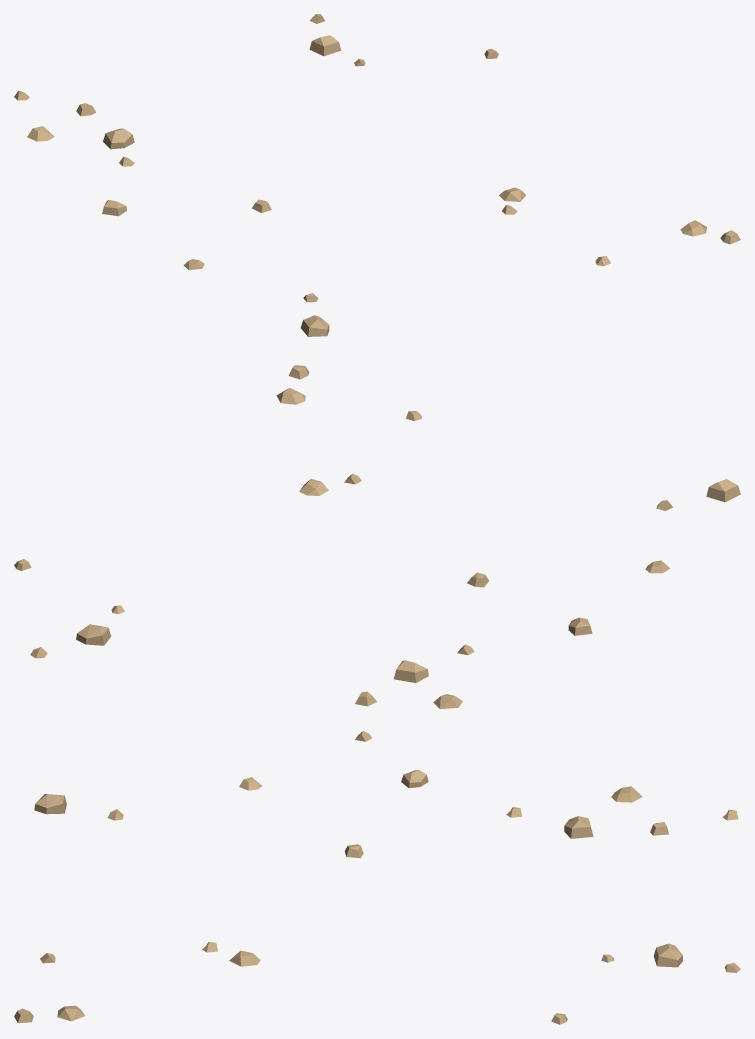
Rendered from SM_Env_Road_Pebbles_01.glb.
The picture shows the model from 3 angles, top to bottom: view 1: azimuth 30°, elevation 25°; view 2: azimuth 150°, elevation 25°; view 3: azimuth 270°, elevation 25°; orthographic projection. The views are drawn at different scales.
Parts seen in each view (by area): view 1: SM_Env_Road_Pebbles_01; view 2: SM_Env_Road_Pebbles_01; view 3: SM_Env_Road_Pebbles_01.
Part boxes in pixels (<box>): SM_Env_Road_Pebbles_01: <box>14,14,740,336</box>; SM_Env_Road_Pebbles_01: <box>14,365,740,741</box>; SM_Env_Road_Pebbles_01: <box>14,770,740,1024</box>.
Size of the model in its own units: 6.96 by 0.2445 by 8.68.
1 material, 1 textured.
